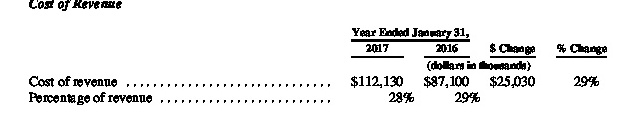table: (0, 0, 634, 122)
